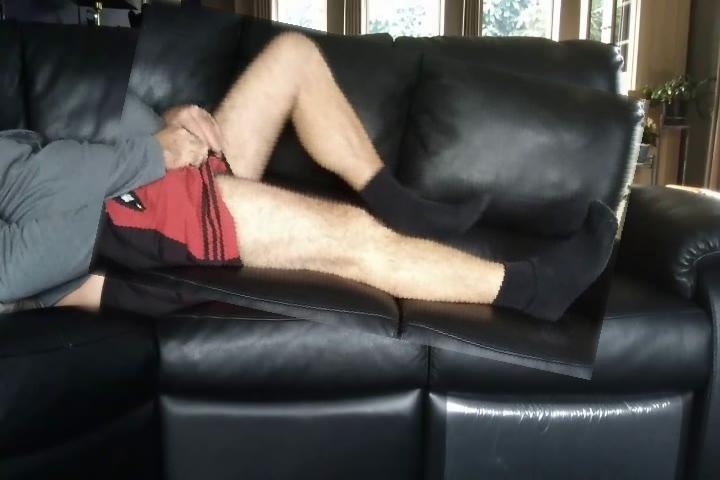lowerbody: (101, 20, 639, 356)
